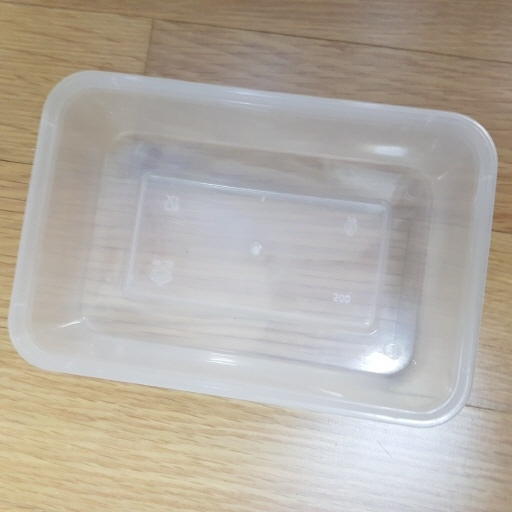Plastic_4: (8, 70, 499, 426)
